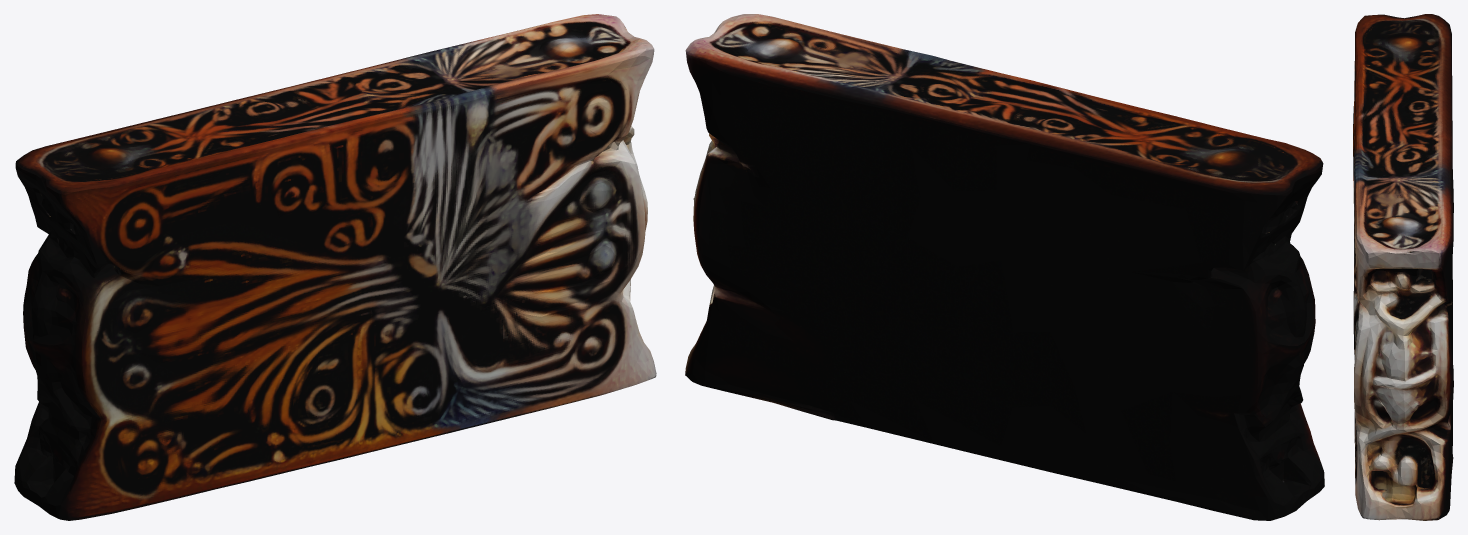
Rendered from wooden-tie-clip-horror.jpeg.glb.
The picture shows the model from 3 angles, left to right: view 1: azimuth 30°, elevation 25°; view 2: azimuth 150°, elevation 25°; view 3: azimuth 270°, elevation 25°; orthographic projection. The views are drawn at different scales.
Visible parts, largest first — view 1: world; view 2: world; view 3: world.
Part boxes in pixels (x1,y1,x2,y2): world: (14, 14, 656, 520); world: (685, 14, 1324, 520); world: (1353, 14, 1453, 520).
Bounding box in the file's own units: 0.9982 × 0.5258 × 0.1766.
1 material, 1 textured.
